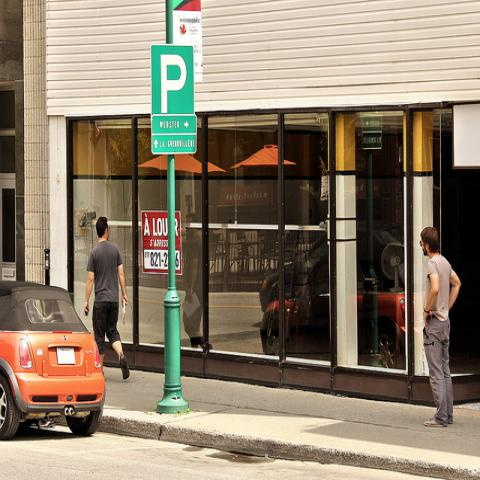car: (0, 273, 108, 443)
